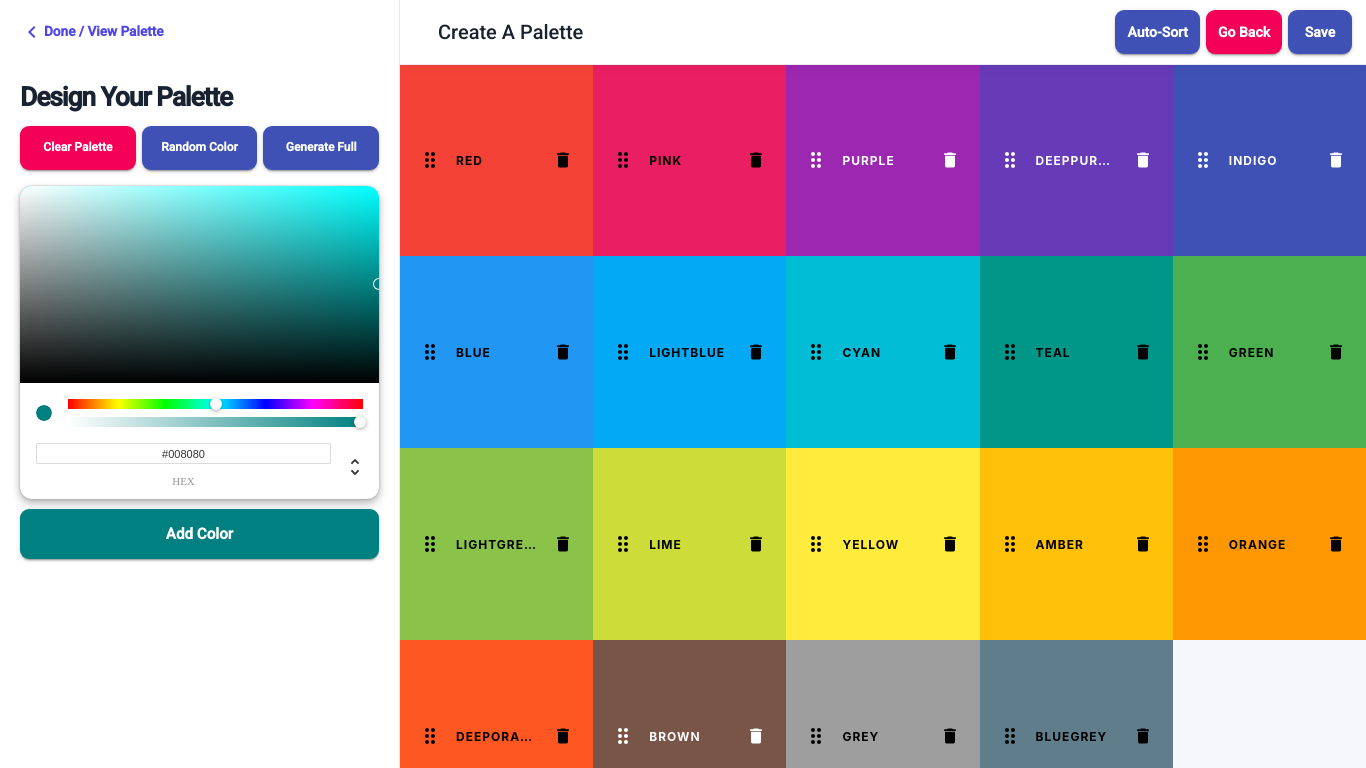
Test: palette editor › fills an empty palette and disables generation at capacity
Click the button "Clear Palette". click: {"x": 78, "y": 148}
box: [20,126,136,170]
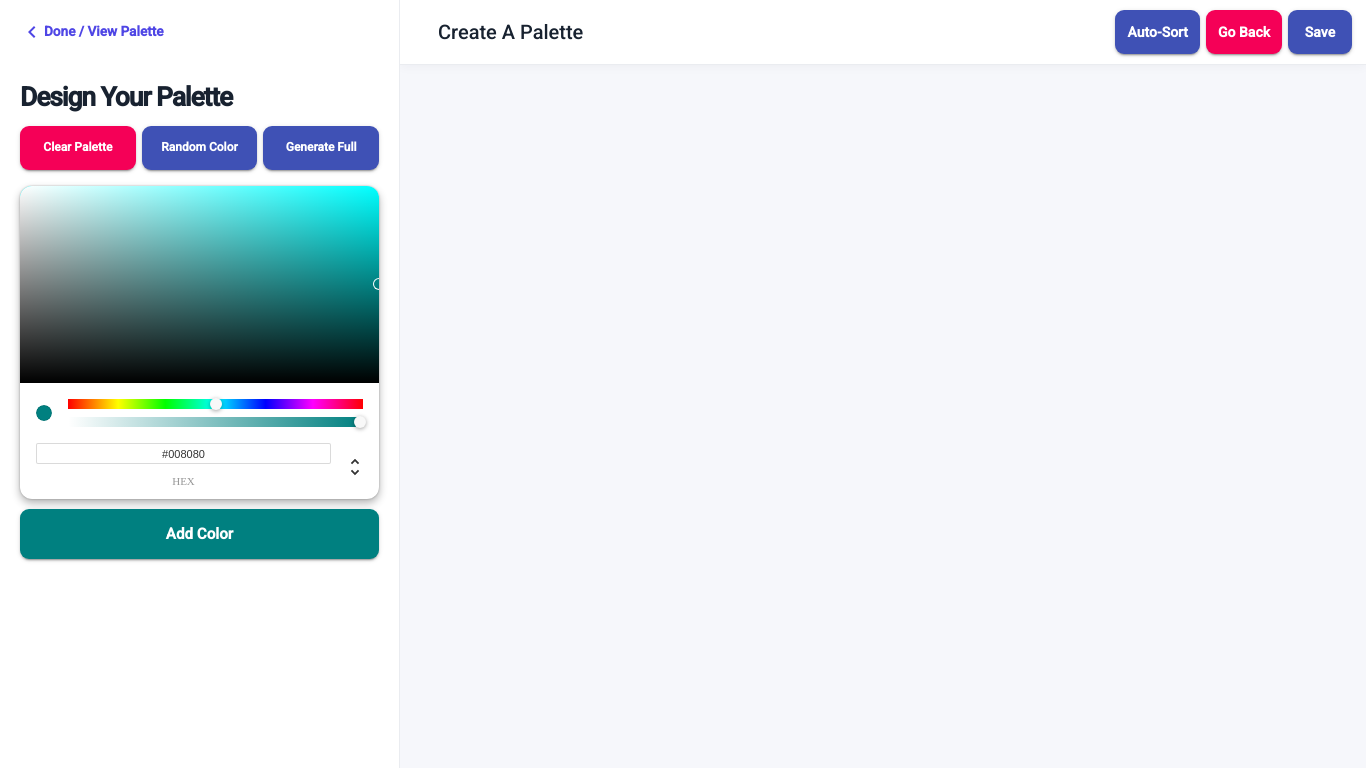
Click the button "Generate Full". click: {"x": 321, "y": 148}
box: [263,126,379,170]
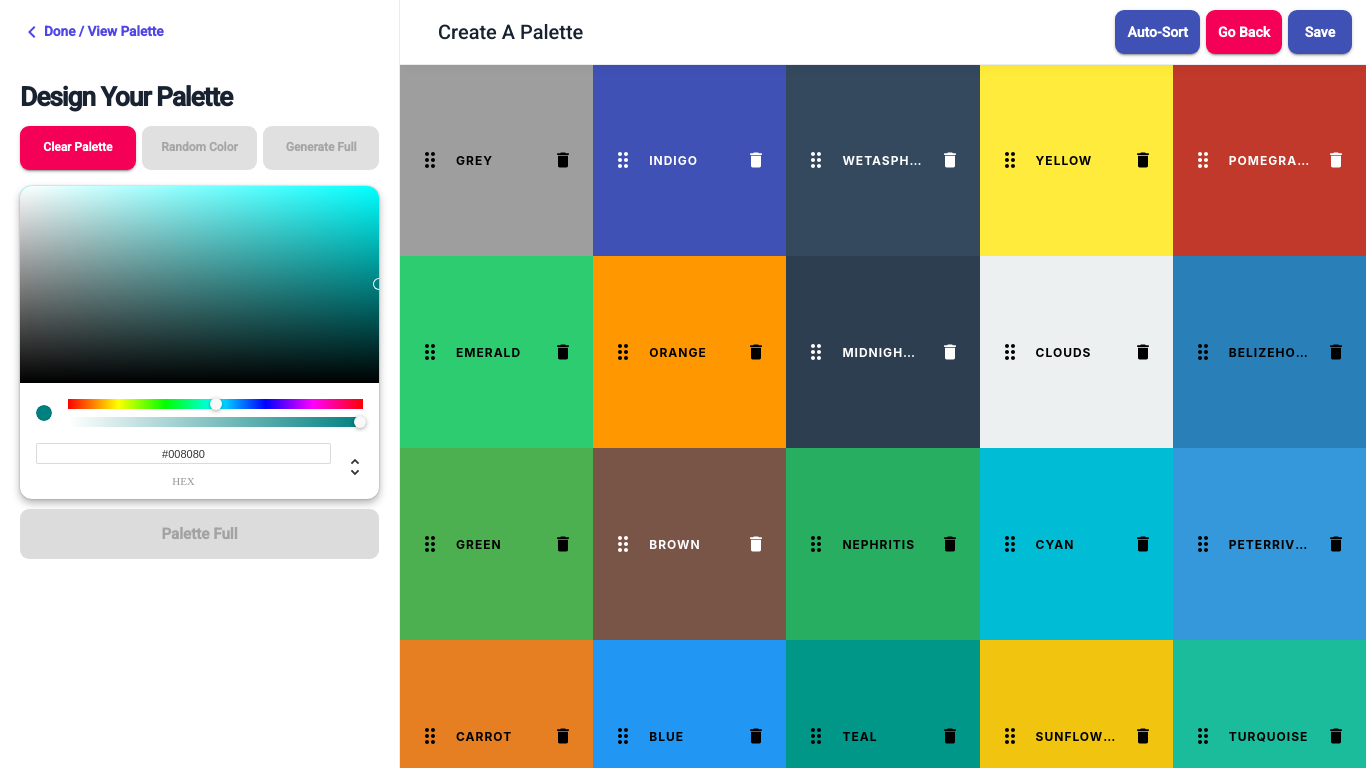
Result: the number of buttons named "Remove " is 20
Result: the button "Generate Full" is disabled at [263,126,379,170]
